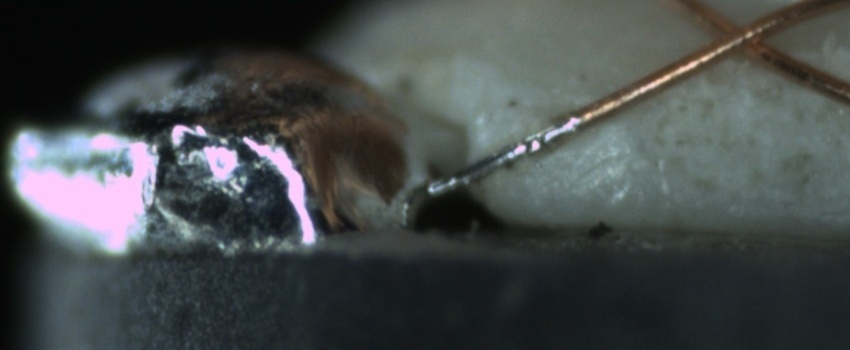CL: (690, 3, 791, 67)
TS: (421, 114, 580, 198)
